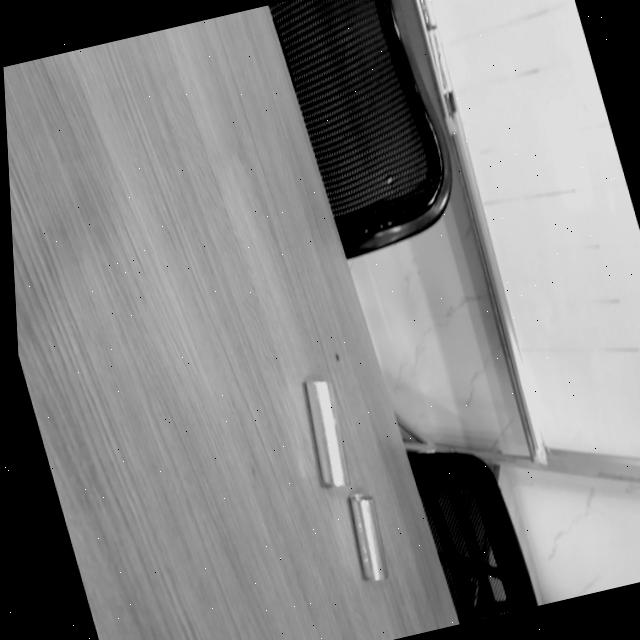Co_Lon: (303, 376, 350, 488)
Co_Nho: (347, 489, 388, 582)
